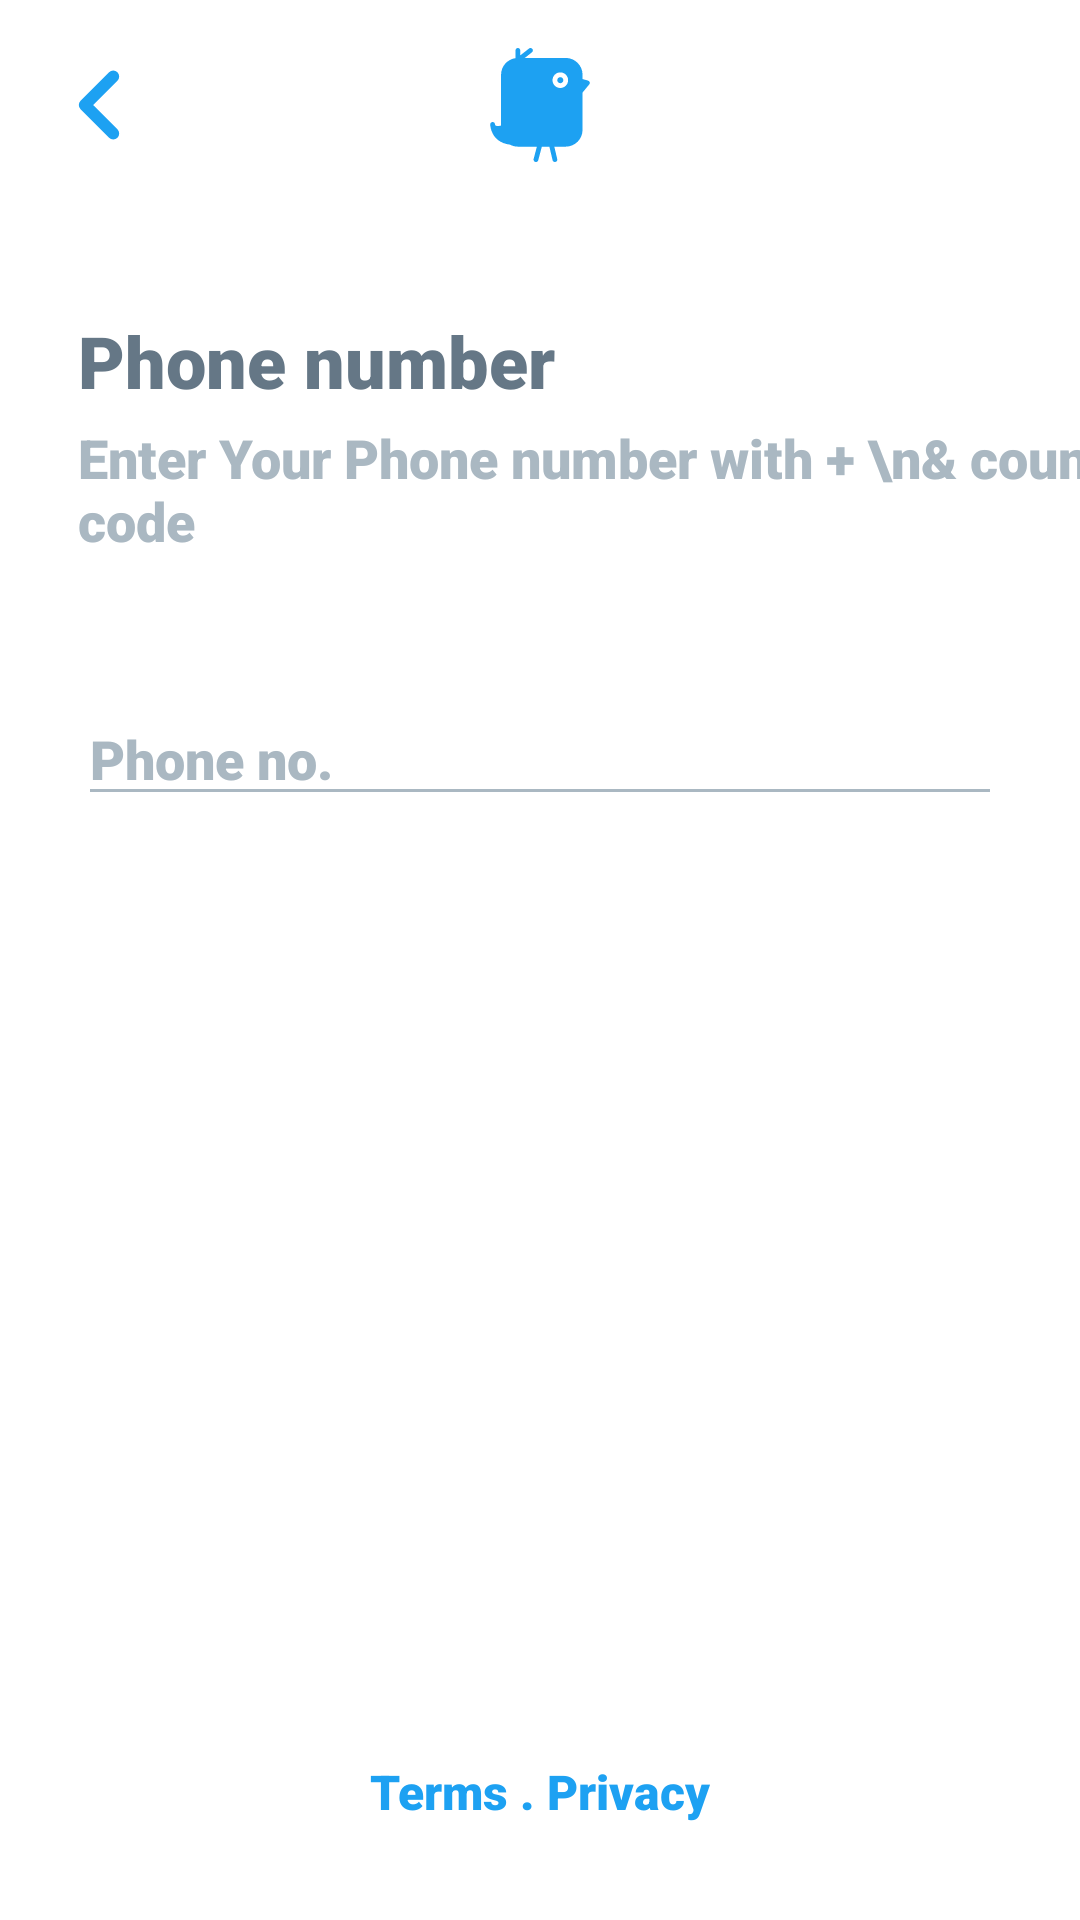

Icon bounding boxes for this 1080w x 1920h phone screenshot, format (x1, y1, x2, y2):
back: (79, 70, 120, 140)
